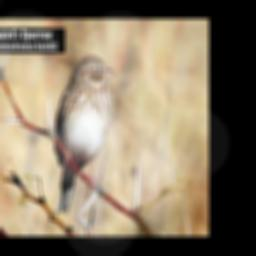Sparrow: (50, 52, 117, 217)
